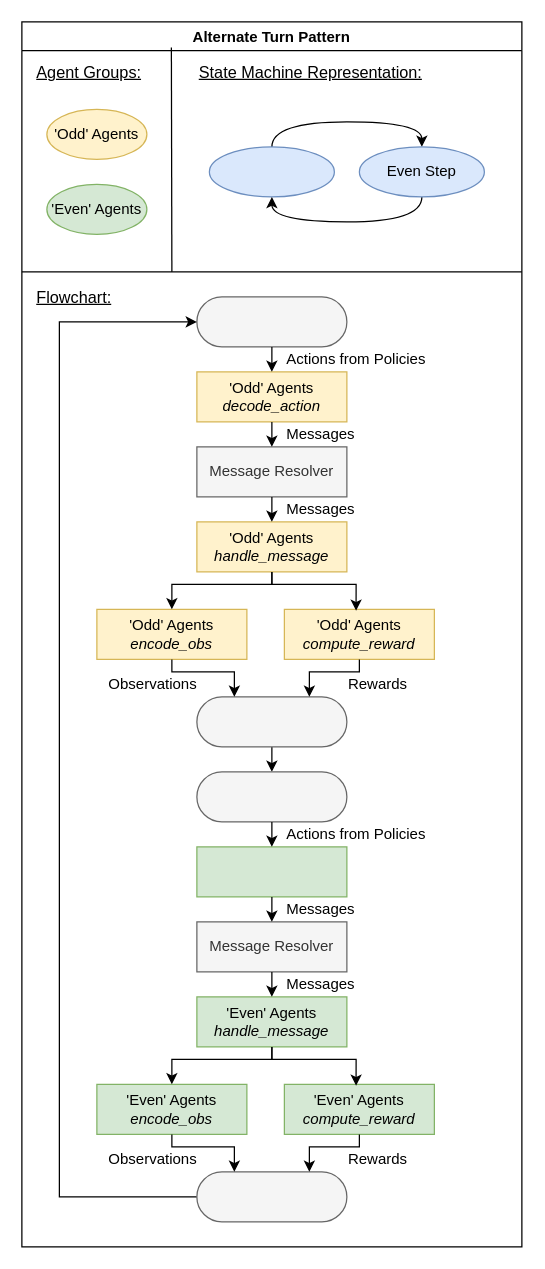
Image size: 545x1269. Some labels were removed from this diagram. The shapes that lost their labels are listed below. From the top down, each one's box as (x1, y1, x2, y2) in pixels, then its label:
(208, 146, 334, 197): Odd Step
(196, 296, 347, 347): Start of Odd Step
(196, 696, 347, 747): End of Odd Step
(196, 771, 347, 822): Start of Even Step
(196, 846, 347, 897): 'Even' Agents decode_action
(196, 1171, 347, 1222): End of Even Step
